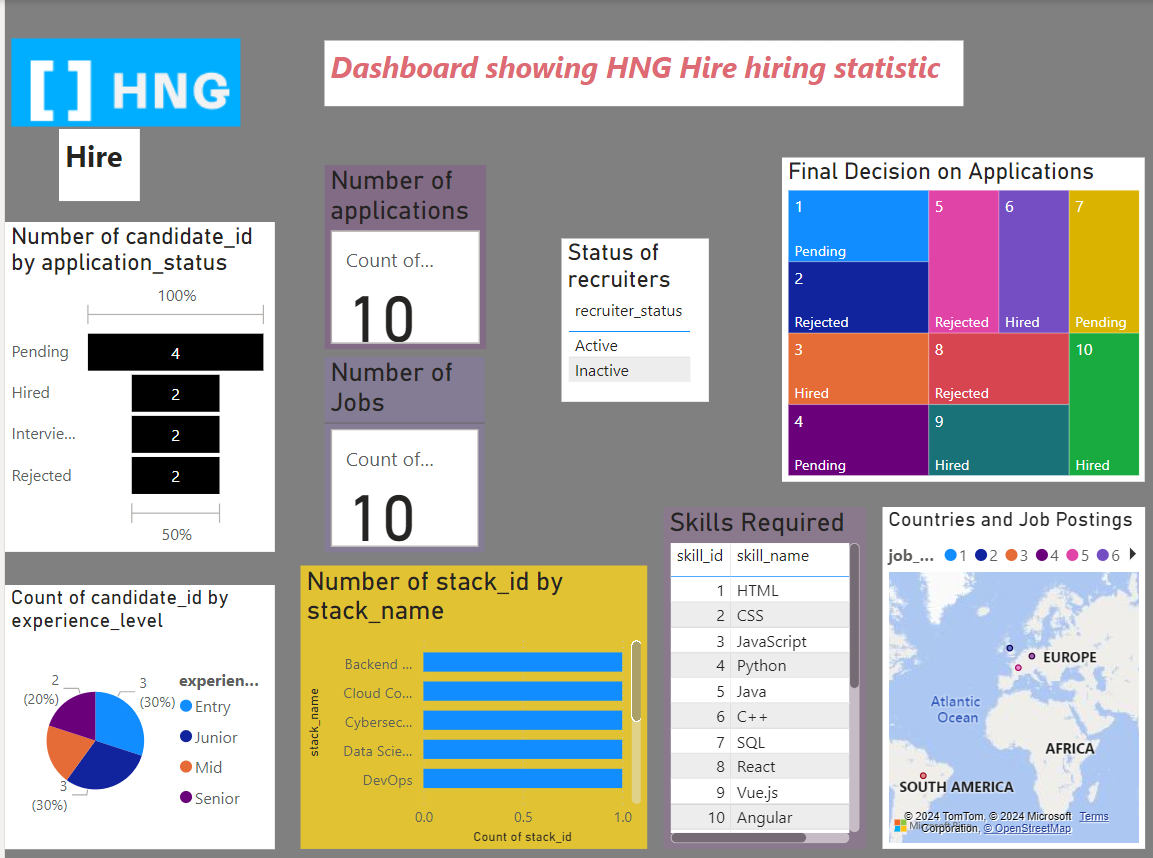

The page's visual inventory and layout, read from the dashboard file:
{"tool":"powerbi","page":{"name":"HNG Hire","canvas":[960,720],"ordinal":0},"visuals":[{"type":"cardVisual","title":"Number of applications","fields":{"Data":["CountNonNull(hngtech_hire_database application.application_id)"]},"box":[266,137.4,134.9,153.6],"z":0},{"type":"image","box":[0,0,201.1,137.4],"z":1000},{"type":"cardVisual","title":"Number of Jobs","fields":{"Data":["CountNonNull(hngtech_hire_database job_postings.job_id)"]},"box":[266,297.2,133.6,162.4],"z":2000},{"type":"tableEx","title":"Skills Required","fields":{"Values":["hngtech_hire_database skill.skill_id","hngtech_hire_database skill.skill_name"]},"box":[548.3,422.1,168.6,284.8],"z":3000},{"type":"funnel","title":"Number of candidate_id by application_status","fields":{"Y":["CountNonNull(hngtech_hire_database application.candidate_id)"],"Category":["hngtech_hire_database application.application_status"]},"box":[0,184.8,224.8,274.8],"z":4000},{"type":"barChart","title":"Number of stack_id by stack_name","fields":{"Category":["hngtech_hire_database tech_stack.stack_name"],"Y":["CountNonNull(hngtech_hire_database tech_stack.stack_id)"]},"box":[246,470.8,288.5,236],"z":5000},{"type":"textbox","box":[45,107.4,67.4,59.9],"z":6000},{"type":"pieChart","fields":{"Category":["hngtech_hire_database candidate.experience_level"],"Y":["CountNonNull(hngtech_hire_database candidate.candidate_id)"]},"box":[0,487.1,224.8,219.8],"z":7000},{"type":"map","title":"Countries and Job Postings","fields":{"Category":["hngtech_hire_database location.country"],"Series":["hngtech_hire_database job_postings.job_id"]},"box":[730.6,422.1,218.6,284.8],"z":8000},{"type":"tableEx","title":"Status of recruiters","fields":{"Values":["hngtech_hire_database recruiter.recruiter_status"]},"box":[463.4,198.6,122.4,136.1],"z":9000},{"type":"treemap","title":"Final Decision on Applications","fields":{"Group":["hngtech_hire_database interview.application_id"],"Details":["hngtech_hire_database hiring_decision.decision"],"Values":["CountNonNull(hngtech_hire_database hiring_decision.comments)"]},"box":[646.9,131.1,302.2,269.8],"z":10000},{"type":"textbox","box":[266,33.7,532,55],"z":10001}]}

Visuals, with their boxes in screenshot pixels (x1, y1, x2, y2), scaled from the page's 960x720 canvas onto the 1153x858 screenshot:
"Number of applications" cardVisual: l=319, t=164, r=481, b=347
image: l=0, t=0, r=242, b=164
"Number of Jobs" cardVisual: l=319, t=354, r=480, b=548
"Skills Required" tableEx: l=659, t=503, r=861, b=842
"Number of candidate_id by application_status" funnel: l=0, t=220, r=270, b=548
"Number of stack_id by stack_name" barChart: l=295, t=561, r=642, b=842
textbox: l=54, t=128, r=135, b=199
pieChart - hngtech_hire_database candidate.experience_level x CountNonNull(hngtech_hire_database candidate.candidate_id): l=0, t=580, r=270, b=842
"Countries and Job Postings" map: l=877, t=503, r=1140, b=842
"Status of recruiters" tableEx: l=557, t=237, r=704, b=399
"Final Decision on Applications" treemap: l=777, t=156, r=1140, b=478
textbox: l=319, t=40, r=958, b=106
